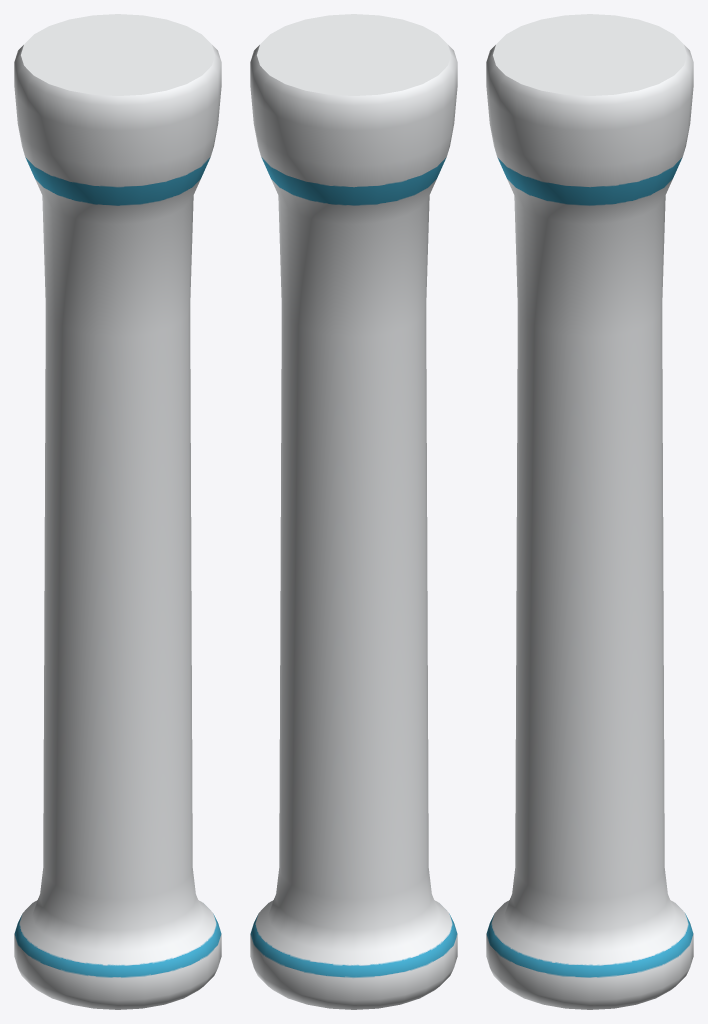
The model's file is Pillar.fbx.
The picture shows the model from 3 angles, left to right: view 1: azimuth 30°, elevation 25°; view 2: azimuth 150°, elevation 25°; view 3: azimuth 270°, elevation 25°; orthographic projection.
Parts seen in each view (by area): view 1: Pillar; view 2: Pillar; view 3: Pillar.
Boxes of the visible parts, x1,y1,x2,y2 form: Pillar: (14,14,221,1009); Pillar: (250,14,457,1009); Pillar: (486,14,693,1009).
Bounding box in the file's own units: 0.82 × 4 × 0.82.
